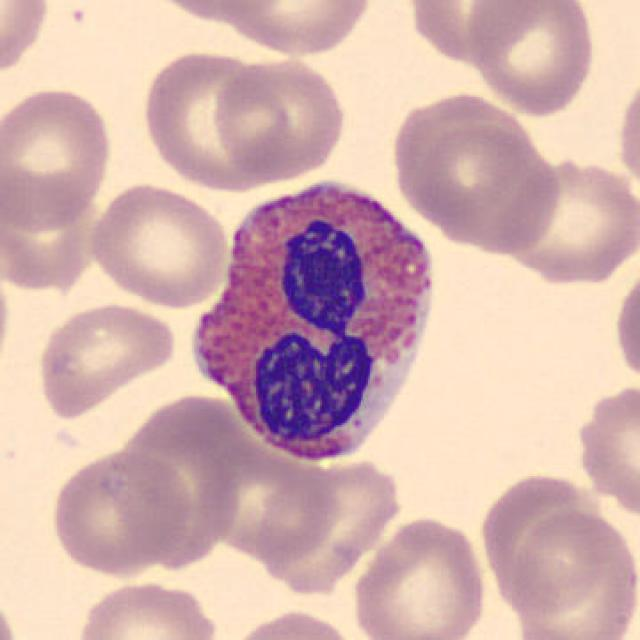Eosinophil: (180, 166, 452, 478)
RBC: (139, 44, 288, 194), (246, 457, 404, 596), (388, 90, 538, 234), (420, 117, 567, 258), (85, 178, 233, 309), (46, 446, 192, 578), (500, 150, 638, 289), (115, 425, 245, 568), (208, 53, 348, 183), (503, 504, 638, 638), (480, 470, 607, 612), (32, 300, 180, 421), (350, 513, 491, 640), (0, 83, 116, 234), (200, 451, 342, 572), (466, 0, 599, 118), (0, 164, 105, 296), (571, 377, 638, 527), (71, 576, 222, 640), (215, 0, 377, 58), (402, 0, 540, 65), (224, 606, 359, 640), (0, 0, 55, 83), (610, 256, 640, 393), (613, 65, 640, 205), (137, 0, 290, 21), (0, 256, 14, 388), (0, 585, 23, 640)
